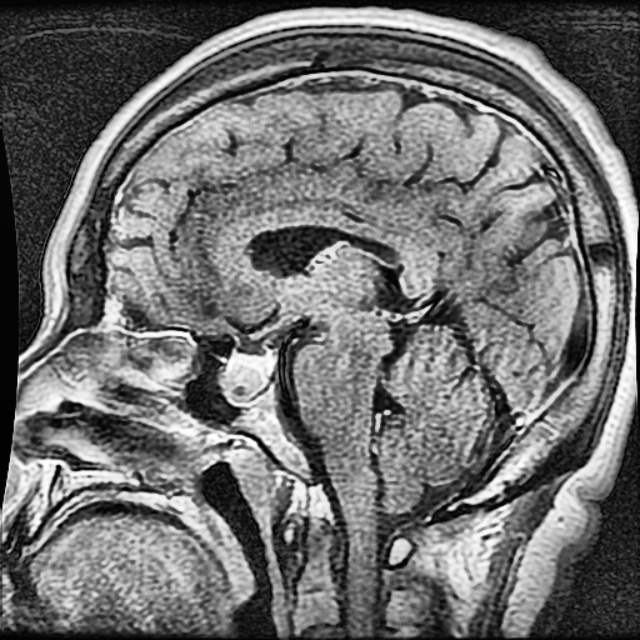Pituitary: (220, 353, 268, 403)
